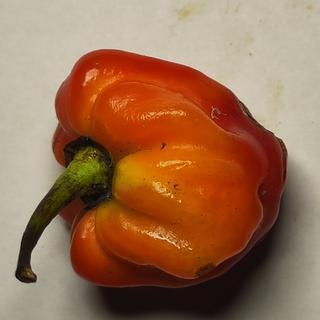Fly-bites: (156, 140, 172, 152)
